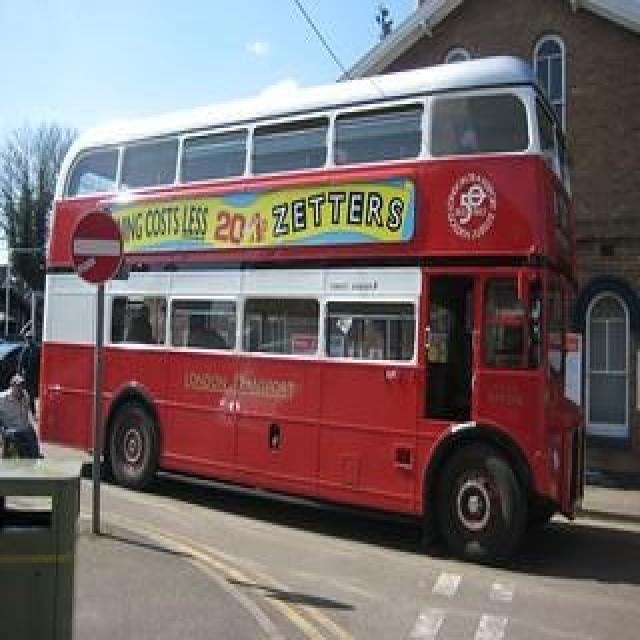Bus: (35, 48, 587, 567)
